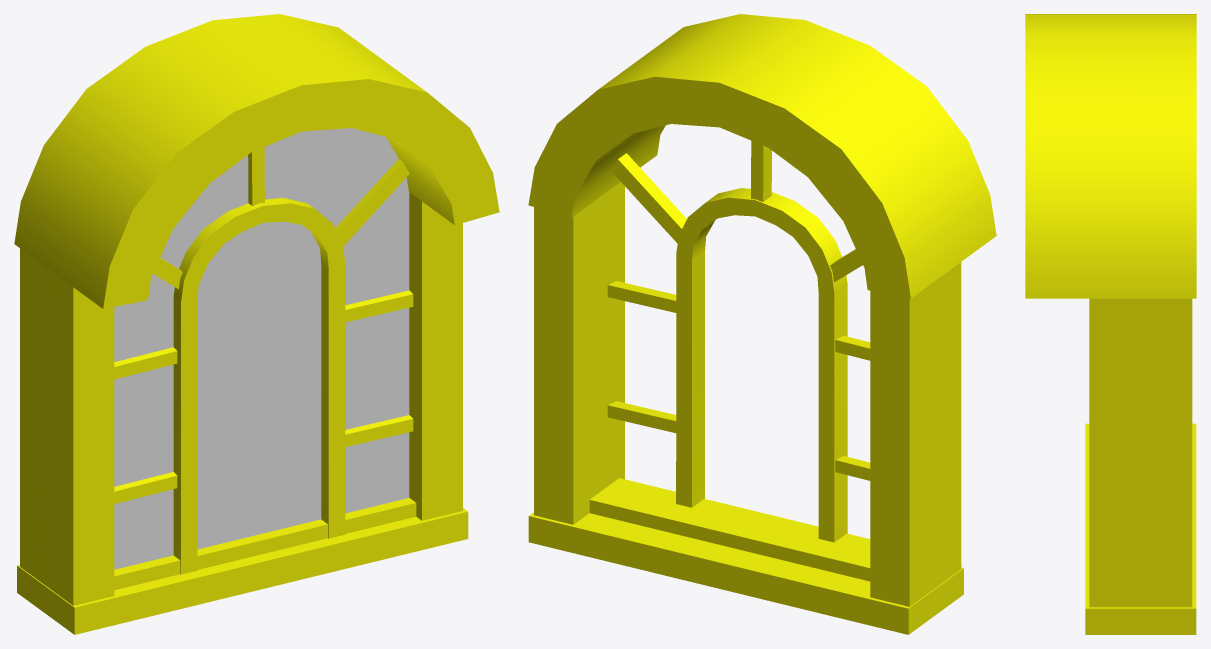
The model's file is window-wide-round1.glb.
The picture shows the model from 3 angles, left to right: view 1: azimuth 30°, elevation 25°; view 2: azimuth 150°, elevation 25°; view 3: azimuth 270°, elevation 25°; orthographic projection. The views are drawn at different scales.
Parts seen in each view (by area): view 1: Window_Wide_Round1; view 2: Window_Wide_Round1; view 3: Window_Wide_Round1.
Boxes of the visible parts, left/top/right/bottom form: Window_Wide_Round1: left=14, top=14, right=499, bottom=634; Window_Wide_Round1: left=528, top=14, right=996, bottom=634; Window_Wide_Round1: left=1025, top=14, right=1196, bottom=634.
Bounding box in the file's own units: 1.36 × 1.73 × 0.5296.
